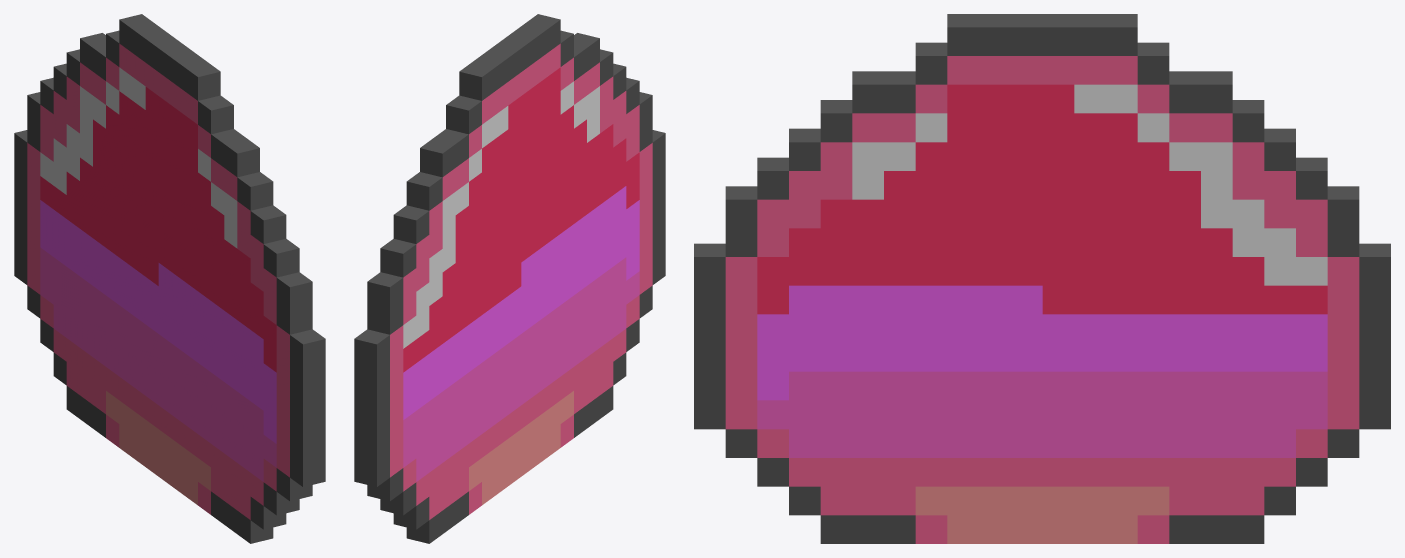
Rendered from clay.obj.
3 renders of one model, left to right at view 1: azimuth 30°, elevation 25°; view 2: azimuth 150°, elevation 25°; view 3: azimuth 270°, elevation 25°, orthographic. The views are drawn at different scales.
Bounding box in the file's own units: 0.1 × 1.8 × 2.2.
1 material, 1 textured.
